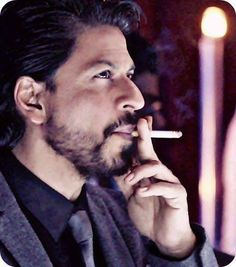cigarette: (128, 128, 183, 141)
